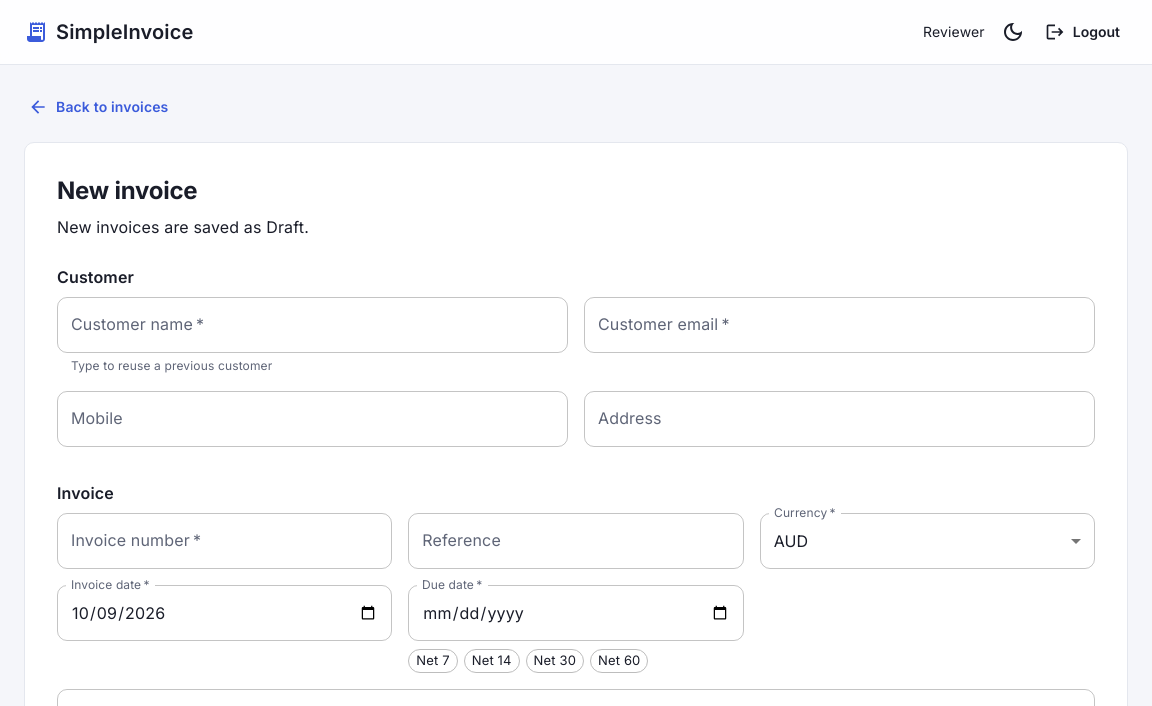
Test: Invoice form extras › fills customer details from a previous invoice
Expected: the heading "New invoice" is shown, [57,176,197,204]
Type "Kan" into the dropdown labelled "Customer name *".
click(312, 324); type("Kan")  # box [66,306,559,344]
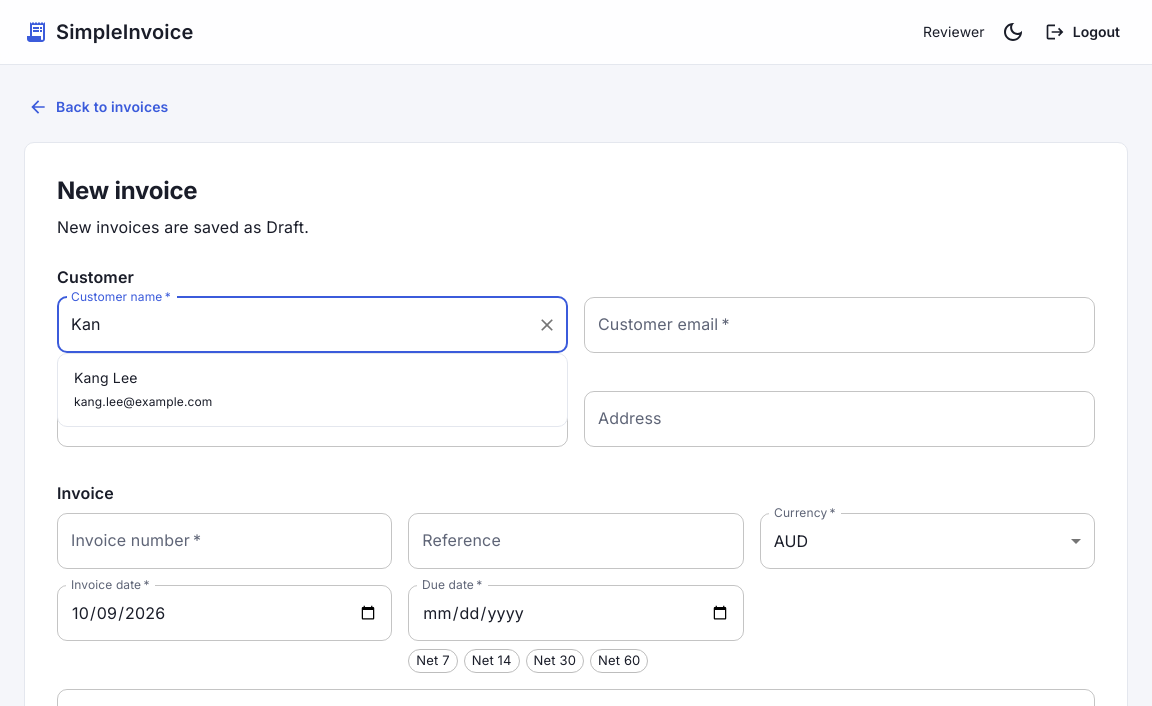
Click the option "Kang Lee kang.lee@example.com".
click(106, 378)  # box [74,369,212,409]
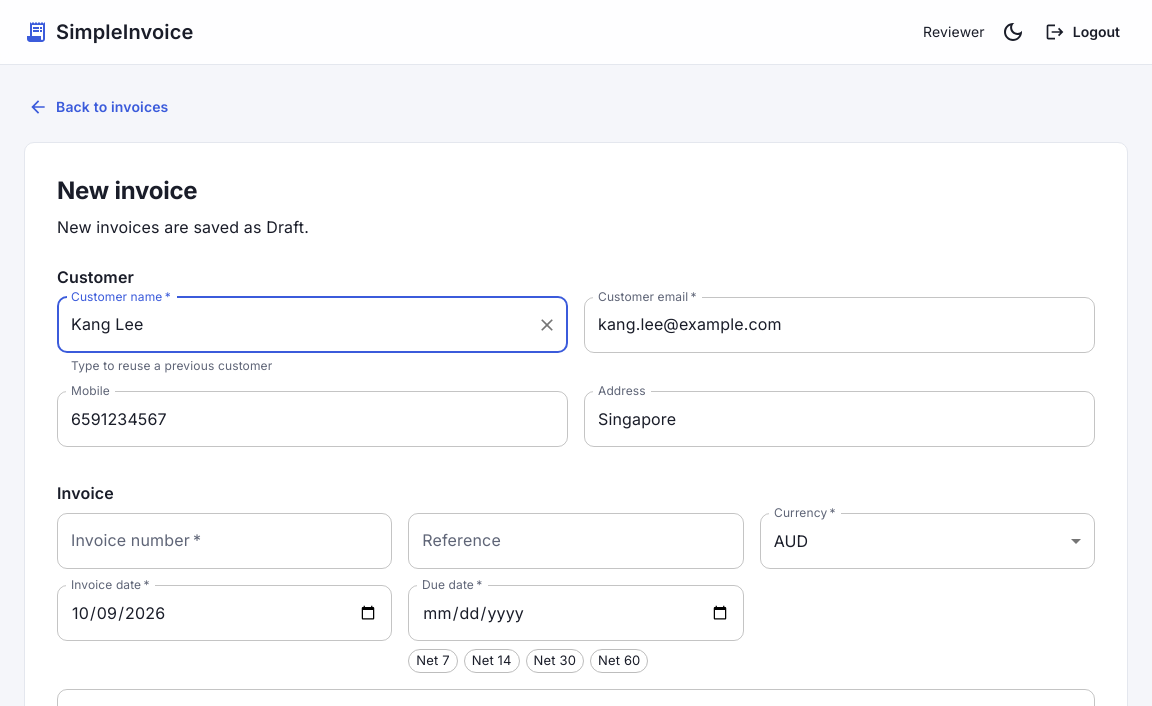
Result: the dropdown labelled "Customer name *" holds "Kang Lee" at [66,306,529,344]
Result: the field labelled "Customer email *" holds "kang.lee@example.com" at [584,296,1095,352]
Result: the field labelled "Mobile" holds "6591234567" at [57,391,568,447]
